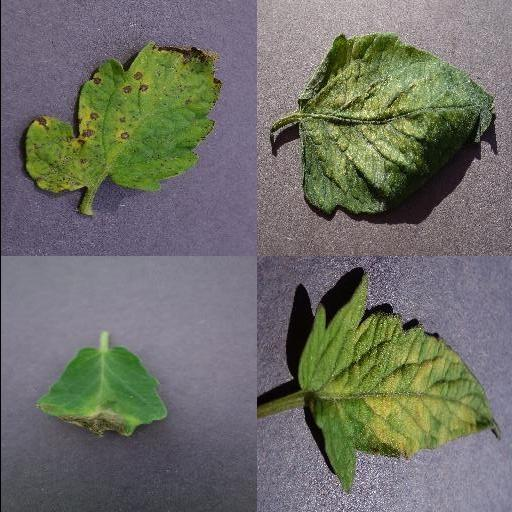Late Blight: (34, 349, 166, 439)
Leaf Mold: (294, 274, 500, 494)
Septoria: (22, 41, 222, 195)
Spider Mites: (294, 37, 496, 217)
